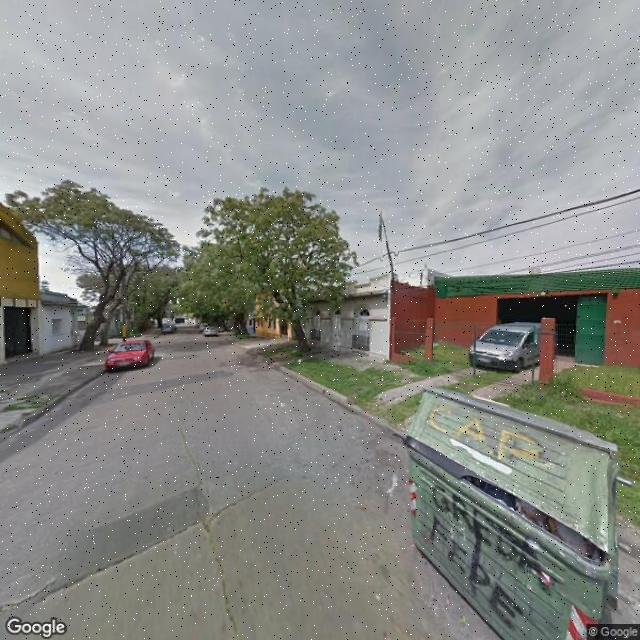garbage container: (397, 384, 631, 640)
